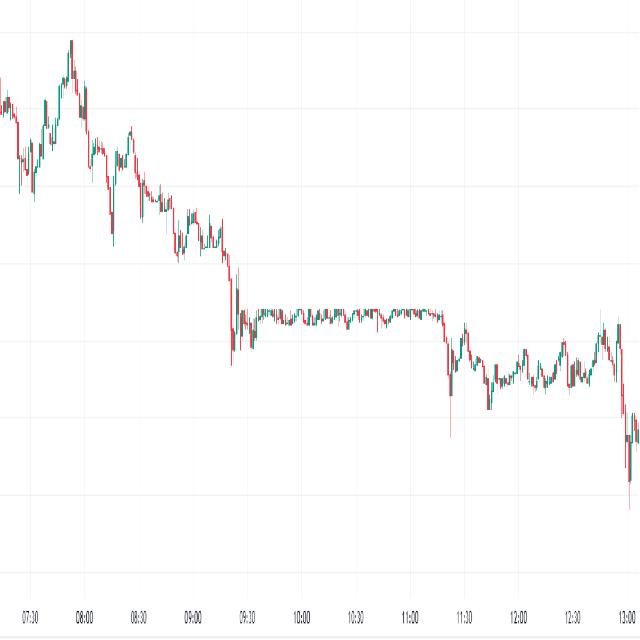Double-Bottom: (170, 210, 191, 275)
Head-Shoulders: (32, 28, 113, 220)
rectangle: (252, 287, 451, 356)
